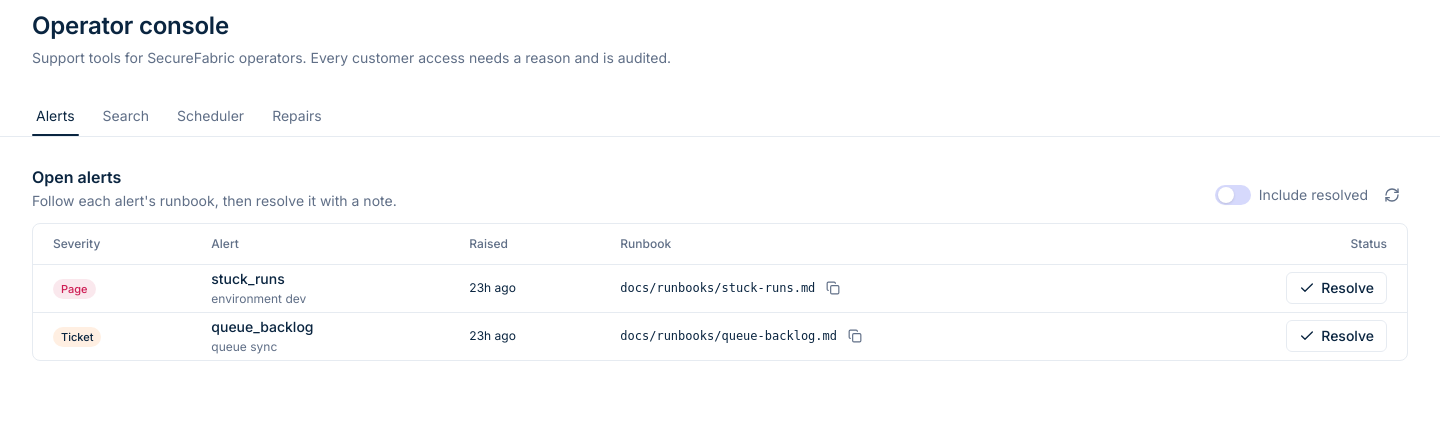
Scenario: <AdminView> › alerts › includes resolved alerts when toggled
The width and height of the screenshot is (1440, 426).
Step 1. Click the switch → (1233, 195), box left=1215, top=185, right=1251, bottom=205
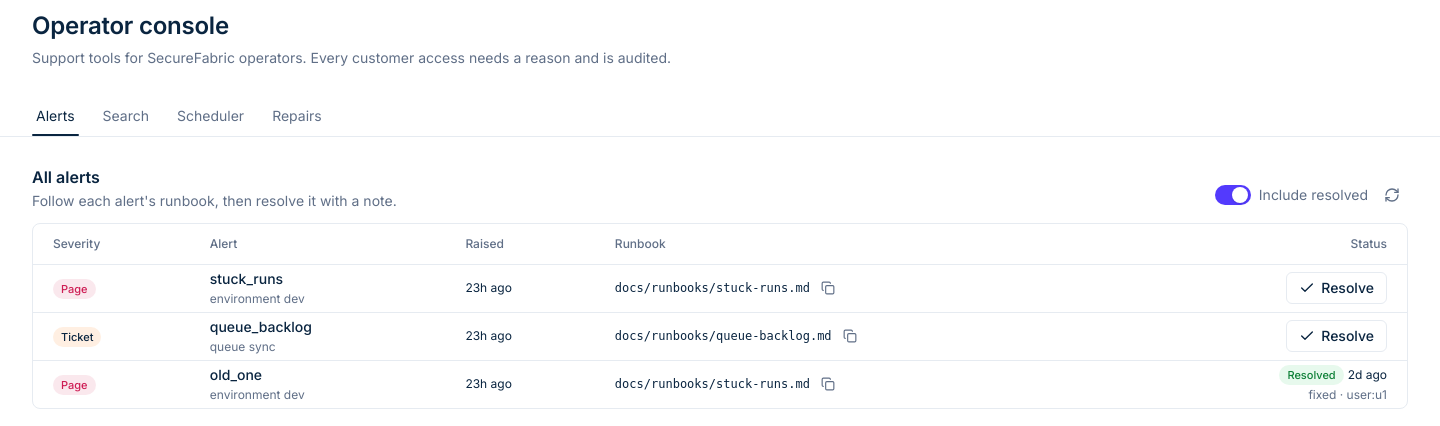
Expected: the 4th row shows "Resolved", left=1287, top=368, right=1336, bottom=382
Expected: the 4th row shows "fixed", left=1308, top=387, right=1336, bottom=402
